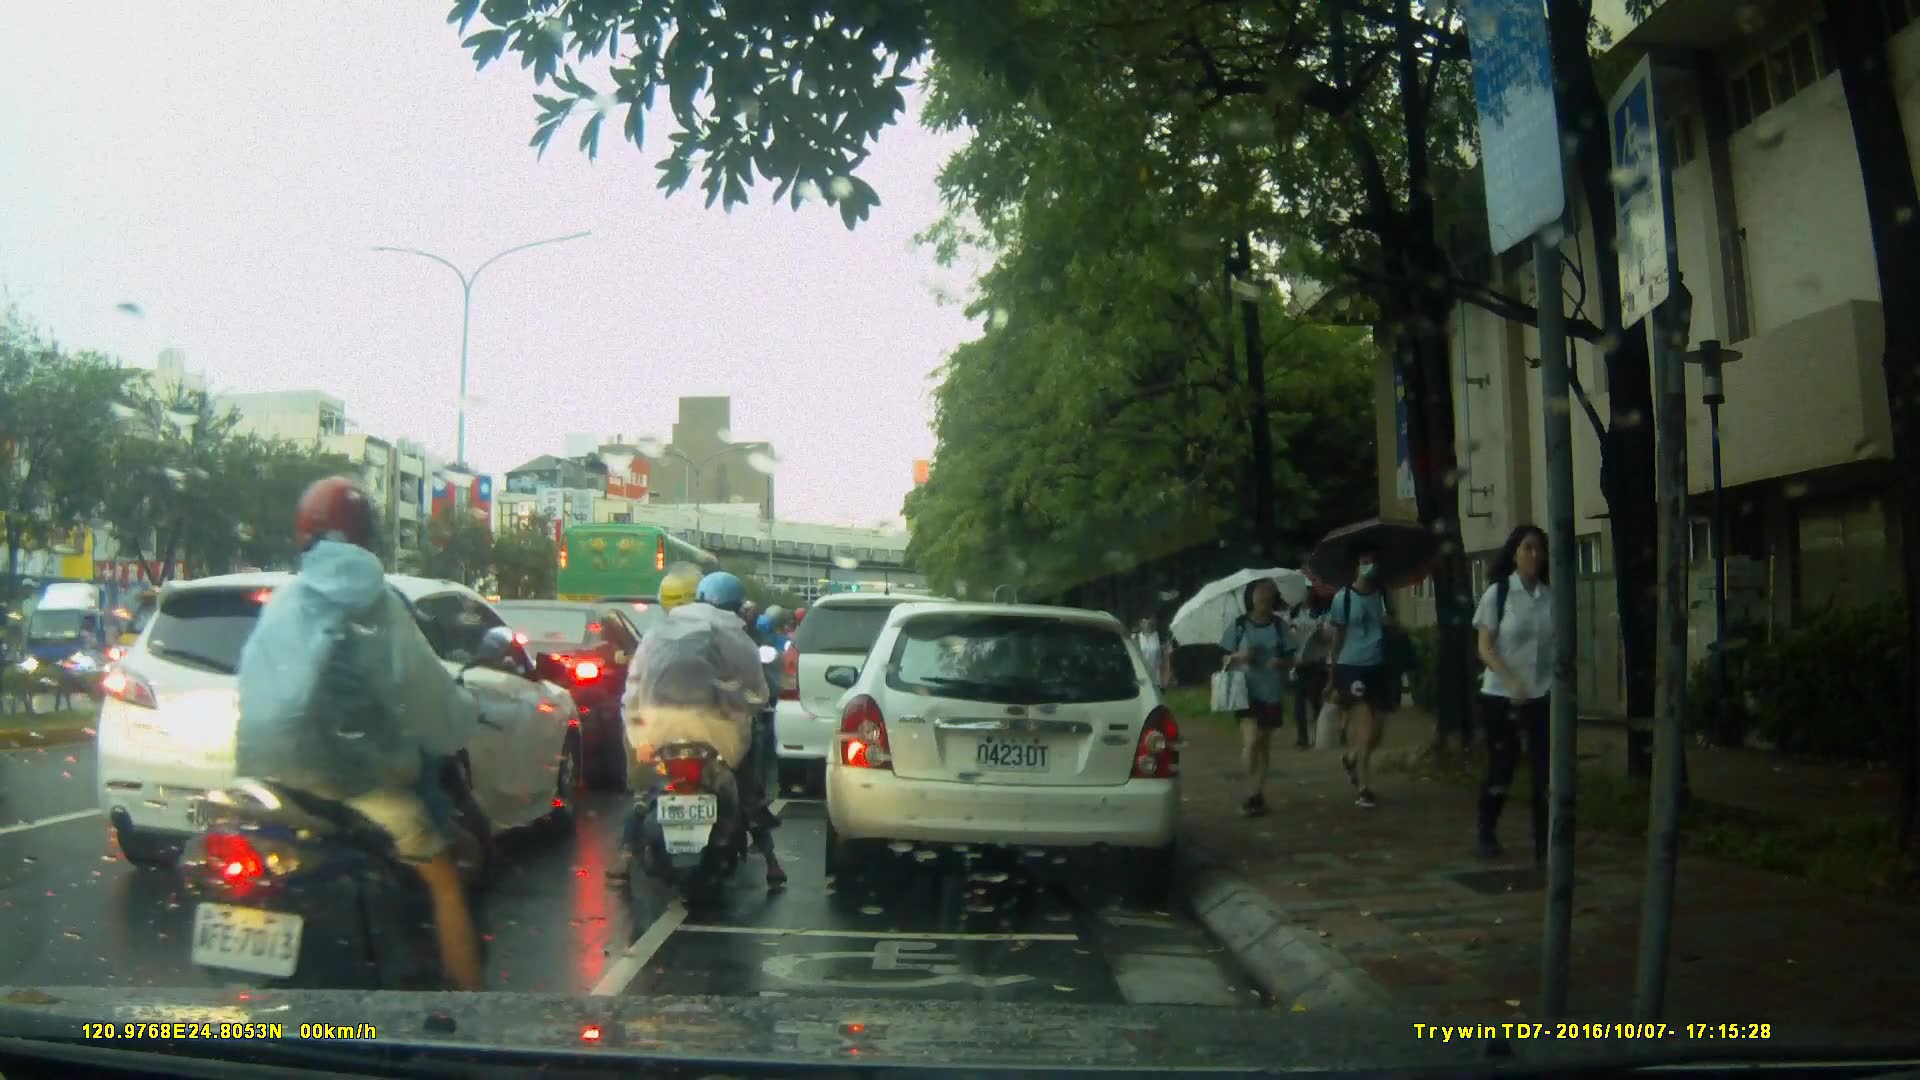pedestrian: (1456, 511, 1581, 878), (1311, 544, 1414, 817), (1212, 571, 1303, 826), (1131, 602, 1173, 746)
rider: (167, 474, 530, 1007), (599, 567, 780, 905), (655, 585, 761, 819)
vehicle: (93, 569, 587, 883), (822, 604, 1186, 883), (774, 595, 995, 802), (554, 519, 739, 666), (20, 576, 199, 697)
